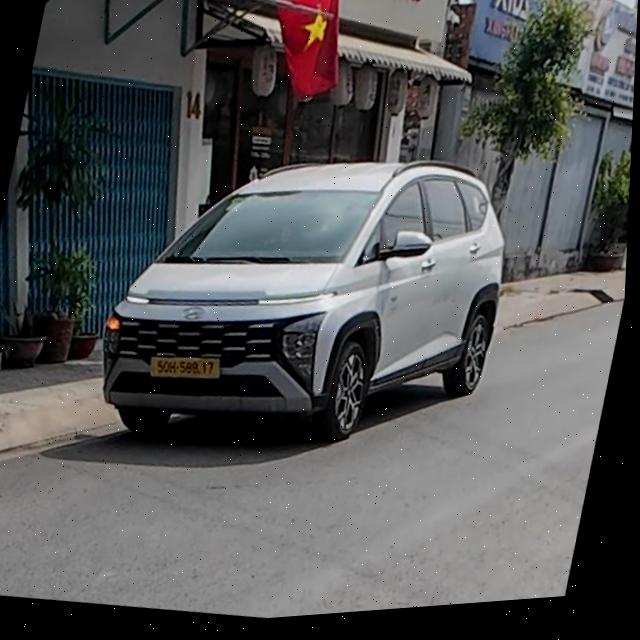car: (72, 104, 556, 503)
plate: (139, 342, 229, 391)
